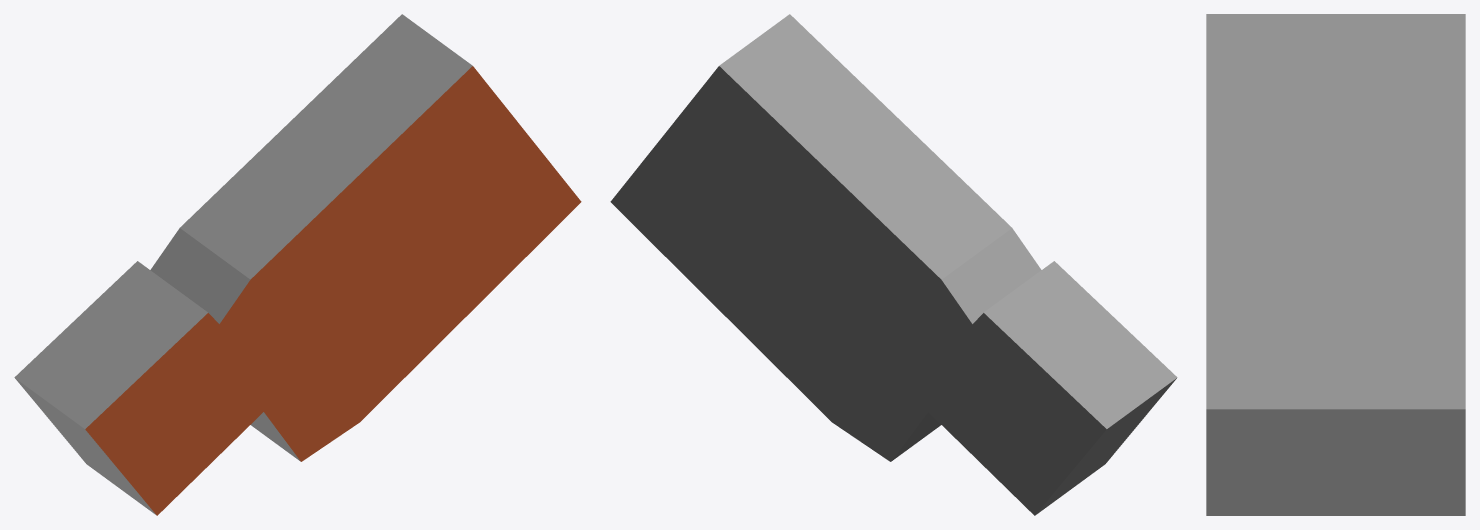
The model's file is construction_6478_assumed_A_Casa_h6m.obj.
3 renders of one model, left to right at view 1: azimuth 30°, elevation 25°; view 2: azimuth 150°, elevation 25°; view 3: azimuth 270°, elevation 25°, orthographic. The views are drawn at different scales.
Parts seen in each view (by area): view 1: construction_6478_assumed_A_Casa; view 2: construction_6478_assumed_A_Casa; view 3: construction_6478_assumed_A_Casa.
Part boxes in pixels (x1,y1,x2,y2): construction_6478_assumed_A_Casa: (14, 14, 581, 515); construction_6478_assumed_A_Casa: (610, 14, 1177, 515); construction_6478_assumed_A_Casa: (1206, 14, 1465, 515).
Bounding box in the file's own units: 24.3 × 17.45 × 6.
